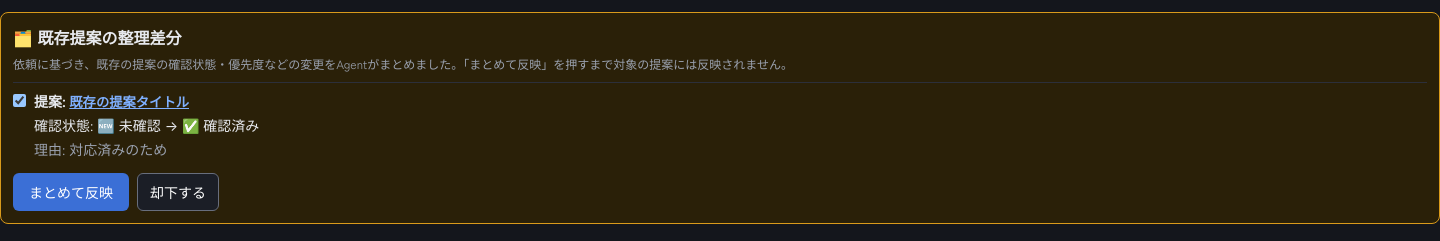
SuggestedSuggestionUpdatesBlock › チェックを外すと反映対象から除外され、ボタンがdisabledになる
Click the checkbox: click(20, 100) [13,94,26,107]
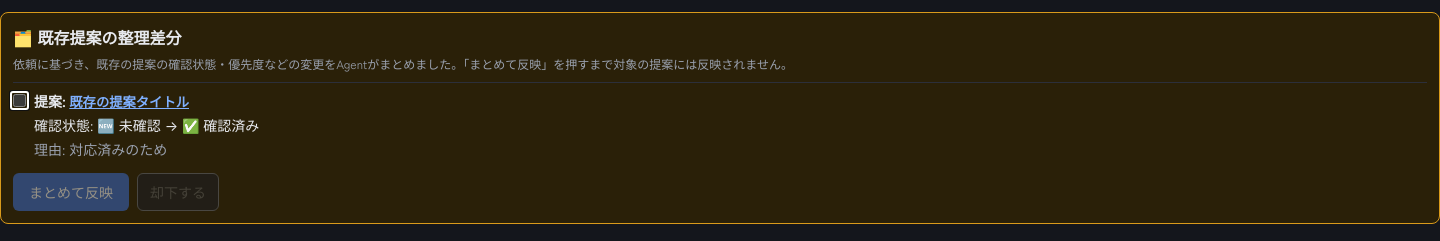
Expected: the button "却下する" is disabled, [137,173,219,211]
